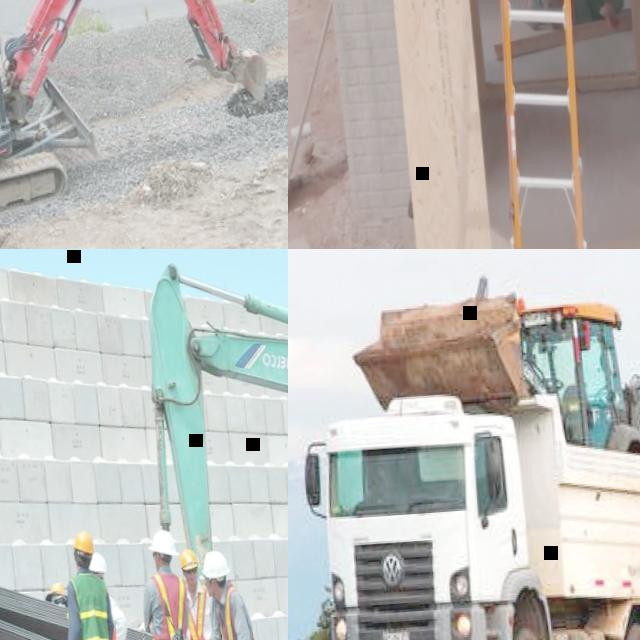Hardhat: (199, 548, 228, 576), (148, 527, 176, 556), (71, 530, 91, 553), (177, 548, 197, 570), (86, 553, 104, 575), (44, 582, 65, 598)
NO-Mask: (204, 584, 217, 596), (186, 574, 198, 586), (151, 560, 160, 570)
Person: (51, 527, 125, 640), (133, 525, 202, 640), (197, 547, 272, 640), (82, 551, 137, 640), (177, 544, 226, 640), (520, 0, 616, 34), (37, 578, 81, 640)
Safety Vest: (142, 569, 188, 640), (68, 569, 111, 640), (211, 580, 260, 640), (179, 578, 214, 640), (41, 602, 72, 640), (102, 624, 124, 640)
vehicle: (290, 368, 640, 640), (0, 0, 279, 240), (344, 264, 640, 481), (135, 249, 288, 640)
